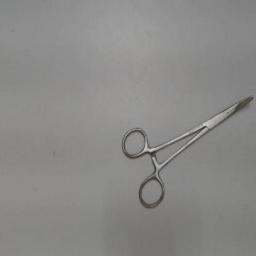Crile Artery Forceps: (119, 90, 255, 214)
